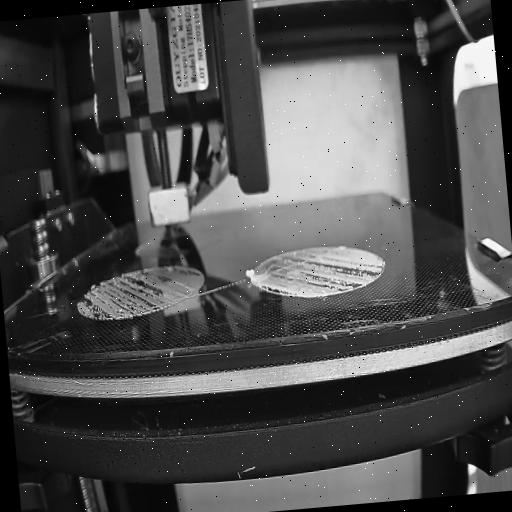under_extrusion: (258, 246, 388, 300), (74, 268, 176, 322), (173, 263, 202, 284)
